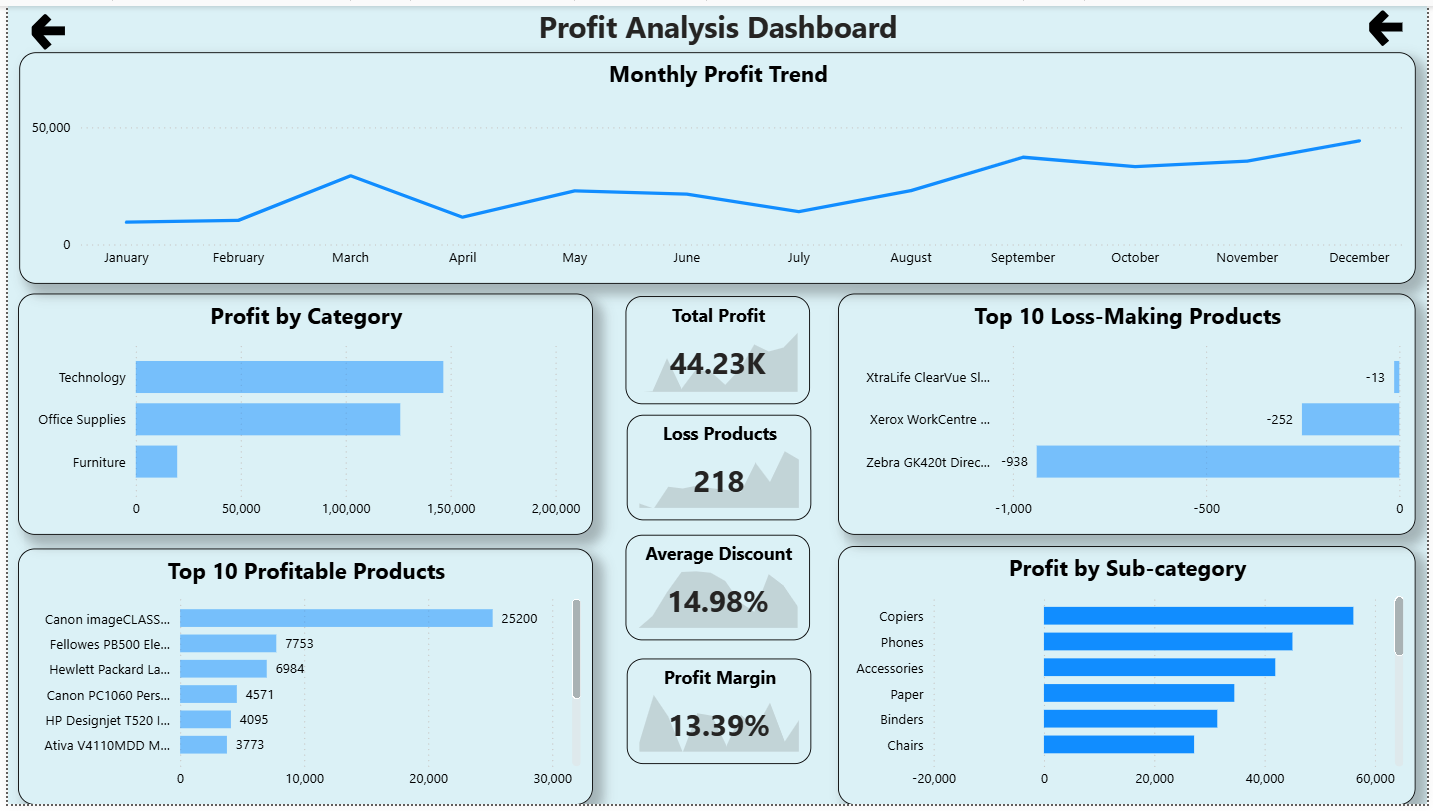

Layout of this report page (visuals, bound fields, positions):
{"tool":"powerbi","page":{"name":"Profit Analysis","canvas":[1280,720],"ordinal":2},"visuals":[{"type":"textbox","title":"Profit Analysis Dashboard","box":[0,0,1280.3,41.6],"z":0},{"type":"kpi","title":"Total Profit","fields":{"Indicator":["Profit Analysis Dashboard.Totall Profit"],"TrendLine":["Orders.Order Date.Variation.Date Hierarchy.Month"]},"box":[556.4,261.7,166.3,97.8],"z":1000},{"type":"kpi","title":"Profit Margin","fields":{"Indicator":["Profit Analysis Dashboard.Profit Margin%"],"TrendLine":["Orders.Order Date.Variation.Date Hierarchy.Month"]},"box":[557.6,588.2,166.3,95.4],"z":2000},{"type":"kpi","title":"Average Discount","fields":{"Indicator":["Profit Analysis Dashboard.Average Discount"],"TrendLine":["Orders.Order Date.Variation.Date Hierarchy.Month"]},"box":[556.4,476.9,166.3,95.4],"z":3000},{"type":"kpi","title":"Loss Products","fields":{"Indicator":["Profit Analysis Dashboard.Loss Products"],"TrendLine":["Orders.Order Date.Variation.Date Hierarchy.Month"]},"box":[557.6,368.1,166.3,95.4],"z":4000},{"type":"clusteredBarChart","title":"Profit by Category","fields":{"Category":["Orders.Category"],"Y":["Executive sales Dashboard.Total Profit"]},"box":[8.6,259.2,518.5,217.7],"z":5000},{"type":"barChart","title":"Top 10 Profitable Products","fields":{"Category":["Orders.Product Name"],"Y":["Executive sales Dashboard.Total Profit"]},"box":[8.6,489.1,518.5,231.1],"z":6000},{"type":"barChart","title":"Top 10 Loss-Making Products","fields":{"Category":["Orders.Product Name"],"Y":["Executive sales Dashboard.Total Profit"]},"box":[748.4,259.2,520.9,217.7],"z":7000},{"type":"lineChart","title":"Monthly Profit Trend","fields":{"Category":["Orders.Order Date.Variation.Date Hierarchy.Month"],"Y":["Profit Analysis Dashboard.Totall Profit"]},"box":[9.8,41.6,1259.5,209.1],"z":8000},{"type":"clusteredBarChart","title":"Profit by Sub-category","fields":{"Category":["Orders.Sub-Category"],"Y":["Profit Analysis Dashboard.Totall Profit"]},"box":[748.4,486.7,520.9,233.6],"z":9000},{"type":"actionButton","box":[10,3.8,53.8,40],"z":10000},{"type":"actionButton","box":[1216.2,0,53.8,40],"z":11000}]}

Visuals, with their boxes in screenshot pixels (x1, y1, x2, y2), scaled from the page's 1280x720 canvas onto the 1433x811 screenshot:
"Profit Analysis Dashboard" textbox: bbox=[0, 0, 1432, 47]
"Total Profit" kpi: bbox=[623, 295, 809, 405]
"Profit Margin" kpi: bbox=[624, 663, 810, 770]
"Average Discount" kpi: bbox=[623, 537, 809, 645]
"Loss Products" kpi: bbox=[624, 415, 810, 522]
"Profit by Category" clusteredBarChart: bbox=[10, 292, 590, 537]
"Top 10 Profitable Products" barChart: bbox=[10, 551, 590, 810]
"Top 10 Loss-Making Products" barChart: bbox=[838, 292, 1421, 537]
"Monthly Profit Trend" lineChart: bbox=[11, 47, 1421, 282]
"Profit by Sub-category" clusteredBarChart: bbox=[838, 548, 1421, 810]
actionButton: bbox=[11, 4, 71, 49]
actionButton: bbox=[1362, 0, 1422, 45]
